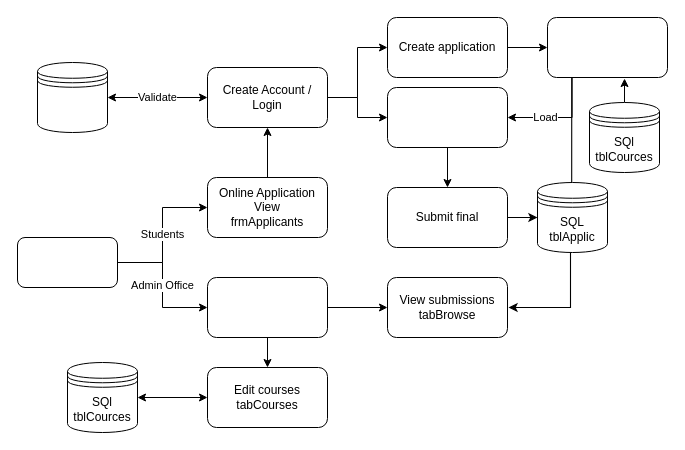
Some shapes in this 685 by 450 pixel diagram are drawn without their labels. The centre of each missing label's shape, as x and y in pixels:
"Application Process View (frmAdmin - Tabs)" goes at (267,307).
"Edit Application" goes at (447,117).
"Open Application" goes at (67,262).
"Select course" goes at (607,47).
"SQl tblUsers" goes at (72,97).
